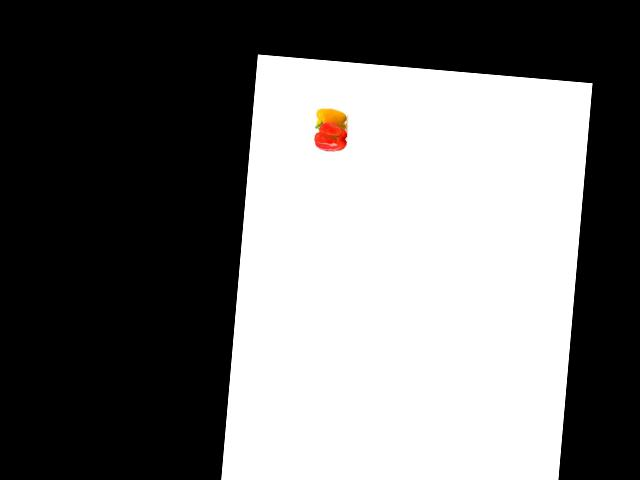bell_pepper: (315, 106, 349, 135)
